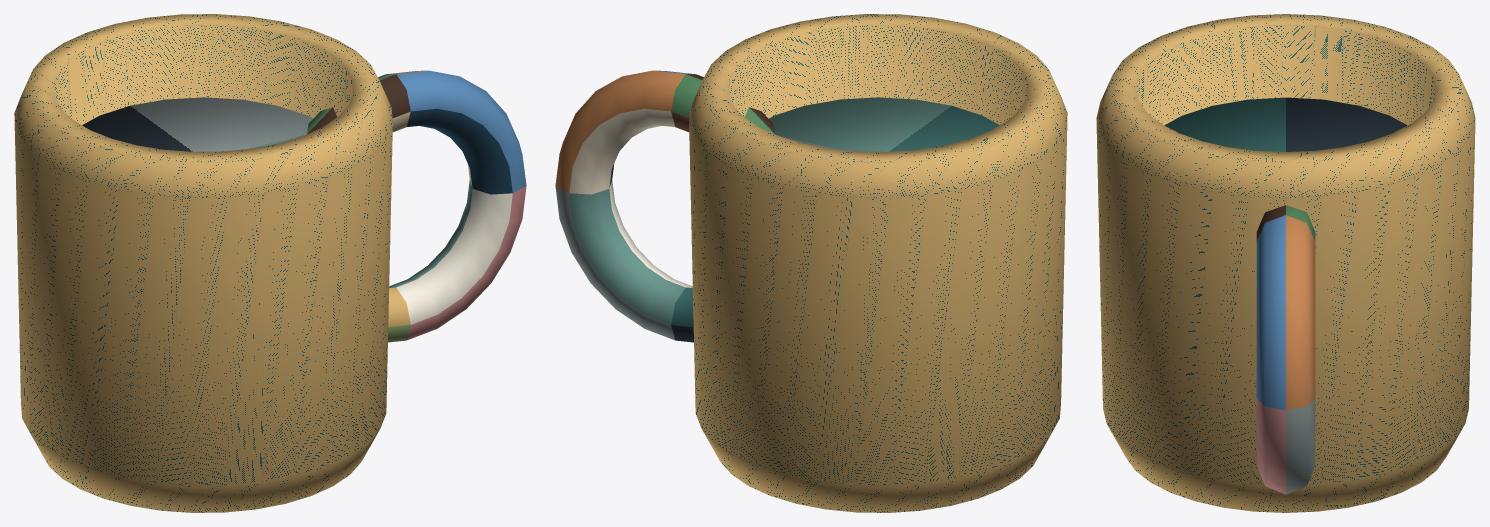
File: CeramicMug.fbx
The picture shows the model from 3 angles, left to right: view 1: azimuth 30°, elevation 25°; view 2: azimuth 150°, elevation 25°; view 3: azimuth 270°, elevation 25°; orthographic projection.
Parts seen in each view (by area): view 1: CeramicMug; view 2: CeramicMug; view 3: CeramicMug.
Boxes of the visible parts, x1=… form: CeramicMug: x1=14, y1=14, x2=526, y2=512; CeramicMug: x1=555, y1=14, x2=1067, y2=512; CeramicMug: x1=1096, y1=14, x2=1475, y2=512.
Bounding box in the file's own units: 0.855 × 0.6 × 0.58.
1 material, 1 textured.
